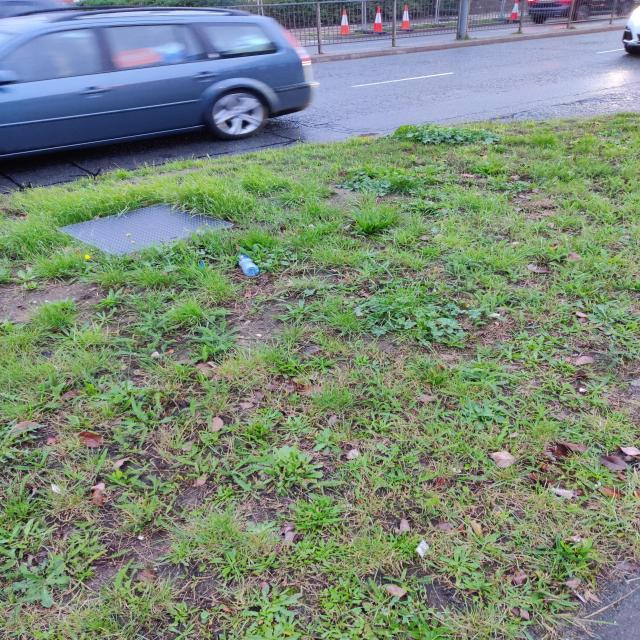litter: (233, 252, 262, 279)
